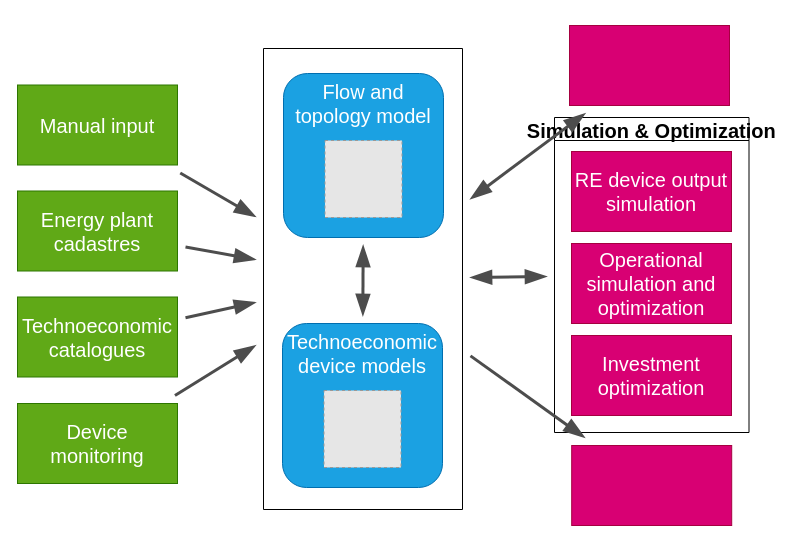
Image size: 792x543. Some labels were removed from this diagram. Grey dashed boxes stand in for pictures. Each missing label, with the centre of its shape:
Economic analysis: (651,485)
Energy flow balancing, tracking, aggregation: (649,65)
